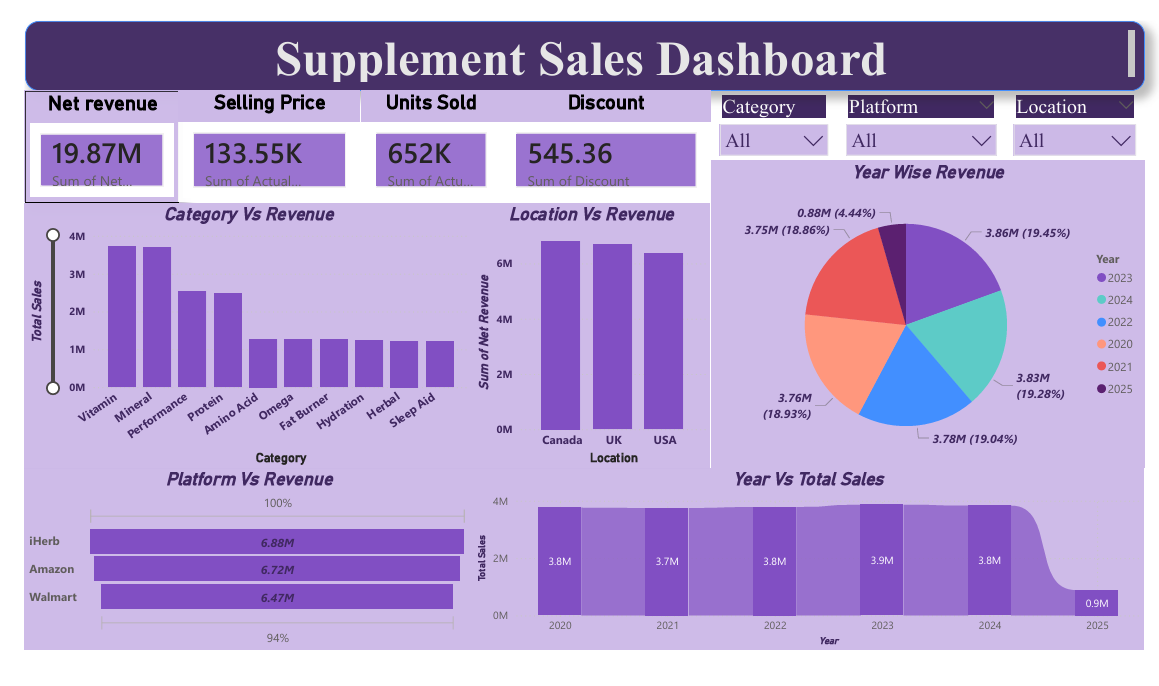

The page's visual inventory and layout, read from the dashboard file:
{"tool":"powerbi","page":{"name":"Sales Overview","canvas":[1280,720],"ordinal":0},"visuals":[{"type":"slicer","fields":{"Values":["Dim_Category.Category"]},"box":[784,80,144,80],"z":0},{"type":"slicer","fields":{"Values":["Dim_Location.Location"]},"box":[1120,80,160,80],"z":1000},{"type":"slicer","fields":{"Values":["Dim_Platform.Platform"]},"box":[928,80,192,80],"z":2000},{"type":"textbox","box":[0,0,1280,80],"z":3000},{"type":"cardVisual","title":"Net revenue","fields":{"Data":["Sum(Sales_Fact.Net Revenue)"]},"box":[0,80,176,128],"z":4000},{"type":"cardVisual","title":"Selling Price","fields":{"Data":["Sum(Sales_Fact.Actual Selling Price)"]},"box":[176,80,208,128],"z":5000},{"type":"cardVisual","title":"Units Sold","fields":{"Data":["Sum(Sales_Fact.Actual Units Sold)"]},"box":[384,80,160,128],"z":6000},{"type":"cardVisual","title":"Discount","fields":{"Data":["Sum(Sales_Fact.Discount)"]},"box":[544,80,240,128],"z":7000},{"type":"clusteredColumnChart","title":"Category Vs Revenue","fields":{"Category":["Sales_Fact.Category"],"Y":["Sum(Sales_Fact.Net Revenue)"]},"box":[0,208,512,304],"z":8000},{"type":"funnel","title":"Platform Vs Revenue","fields":{"Category":["Sales_Fact.Platform"],"Y":["Sum(Sales_Fact.Revenue)"]},"box":[0,512,512,208],"z":9000},{"type":"columnChart","title":"Location Vs Revenue","fields":{"Y":["Sum(Sales_Fact.Net Revenue)"],"Category":["Sales_Fact.Location"]},"box":[512,208,272,304],"z":10000},{"type":"pieChart","title":"Year Wise Revenue","fields":{"Category":["Date_Table.Year"],"Y":["Sum(Sales_Fact.Net Revenue)"]},"box":[784,160,496,352],"z":11000},{"type":"ribbonChart","title":"Year Vs Total Sales","fields":{"Category":["Date_Table.Year"],"Y":["Sum(Sales_Fact.Net Revenue)"]},"box":[512,512,768,208],"z":12000}]}

Visuals, with their boxes on the page's 1280x720 design canvas (x1, y1, x2, y2). These are canvas units, not pixel positions in the 1159x686 screenshot, which may show the page scaled, cropped or inside an application window:
slicer - Dim_Category.Category: (784, 80, 928, 160)
slicer - Dim_Location.Location: (1120, 80, 1280, 160)
slicer - Dim_Platform.Platform: (928, 80, 1120, 160)
textbox: (0, 0, 1280, 80)
"Net revenue" cardVisual: (0, 80, 176, 208)
"Selling Price" cardVisual: (176, 80, 384, 208)
"Units Sold" cardVisual: (384, 80, 544, 208)
"Discount" cardVisual: (544, 80, 784, 208)
"Category Vs Revenue" clusteredColumnChart: (0, 208, 512, 512)
"Platform Vs Revenue" funnel: (0, 512, 512, 720)
"Location Vs Revenue" columnChart: (512, 208, 784, 512)
"Year Wise Revenue" pieChart: (784, 160, 1280, 512)
"Year Vs Total Sales" ribbonChart: (512, 512, 1280, 720)
